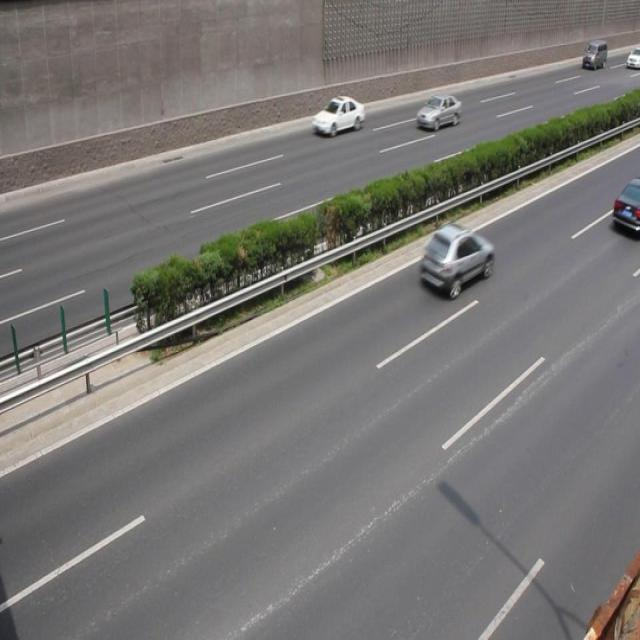car: (417, 225, 492, 299), (310, 94, 364, 137), (415, 92, 460, 132), (610, 181, 640, 235)
